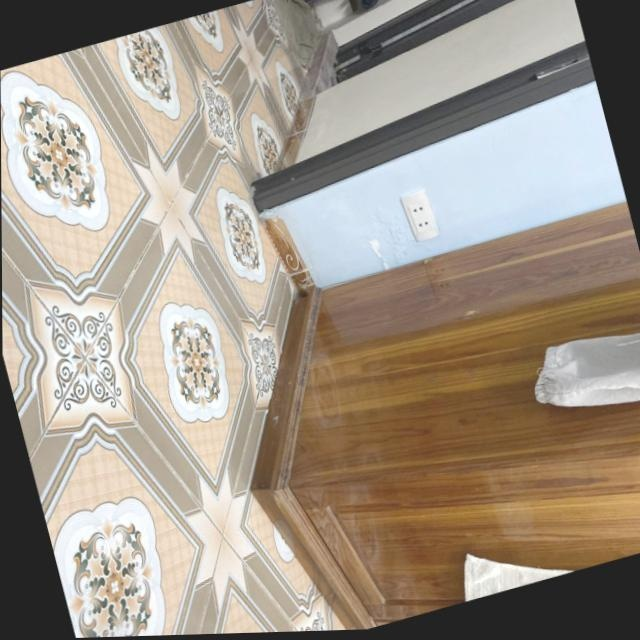outlet: (398, 187, 439, 245)
